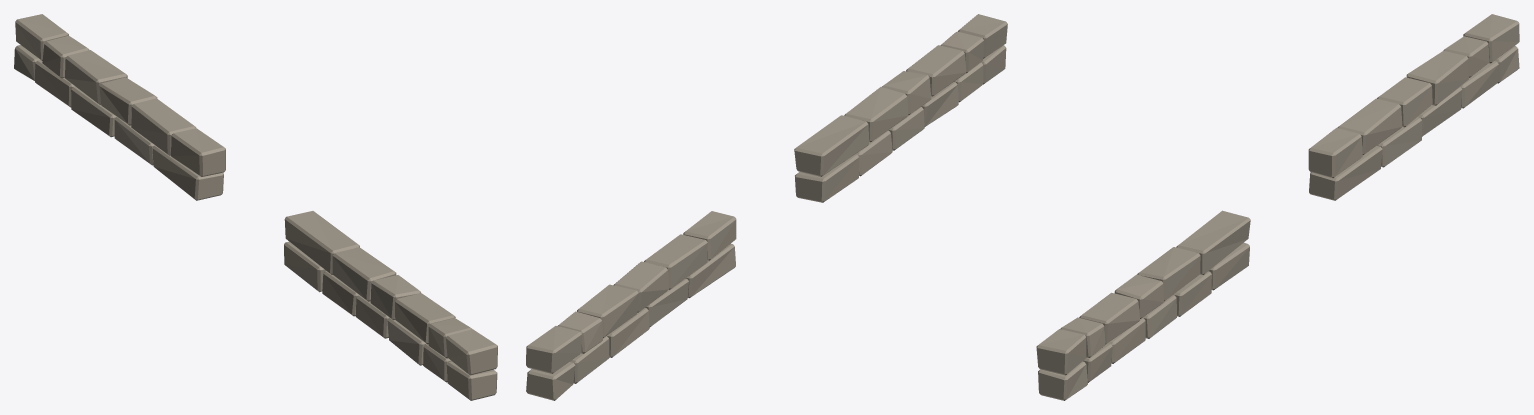
Rendered from SM_HH_Q3_Stone_Front.fbx.
The picture shows the model from 3 angles, left to right: view 1: azimuth 30°, elevation 25°; view 2: azimuth 150°, elevation 25°; view 3: azimuth 330°, elevation 25°; orthographic projection.
Visible parts, largest first — view 1: HH_Q3_Stone_Front; view 2: HH_Q3_Stone_Front; view 3: HH_Q3_Stone_Front.
Boxes of the visible parts, x1,y1,x2,y2 form: HH_Q3_Stone_Front: (14,14,497,400); HH_Q3_Stone_Front: (526,14,1007,400); HH_Q3_Stone_Front: (1036,14,1519,400).
Size of the model in its own units: 8.76 by 0.3538 by 0.5432.
